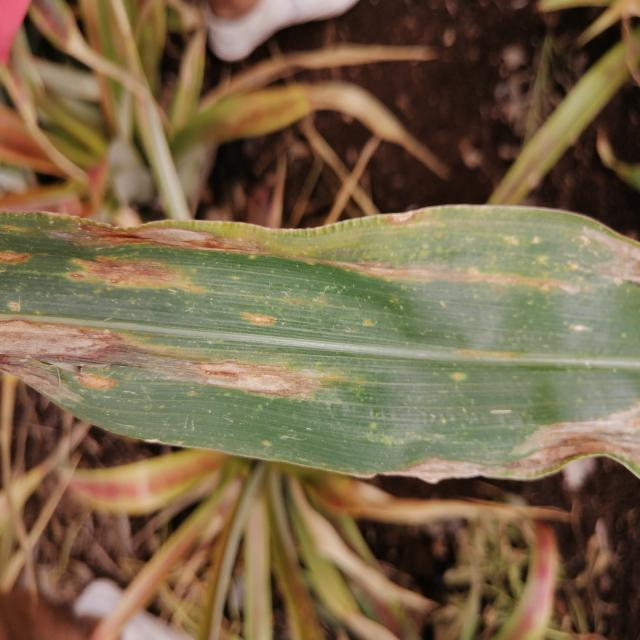Corn_Leaf_Blight: (0, 194, 640, 492)
